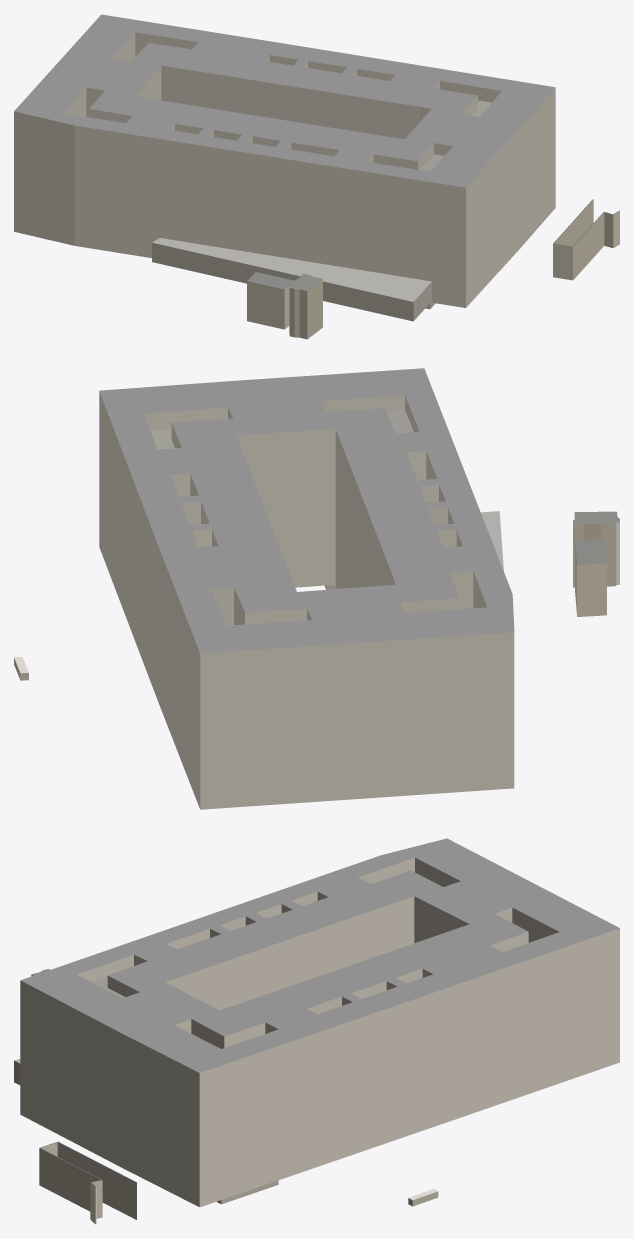
3 renders of one model, top to bottom at view 1: azimuth 30°, elevation 25°; view 2: azimuth 150°, elevation 25°; view 3: azimuth 270°, elevation 25°, orthographic. The views are drawn at different scales.
Visible parts, largest first — view 1: tuile; view 2: tuile; view 3: tuile.
Part boxes in pixels (bbox=[...]): tuile: bbox=[14, 14, 619, 339]; tuile: bbox=[14, 368, 619, 809]; tuile: bbox=[14, 838, 619, 1224].
Bounding box in the file's own units: 361 × 115 × 378.
